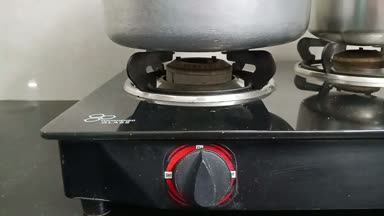noflame_gason: (111, 41, 289, 210)
